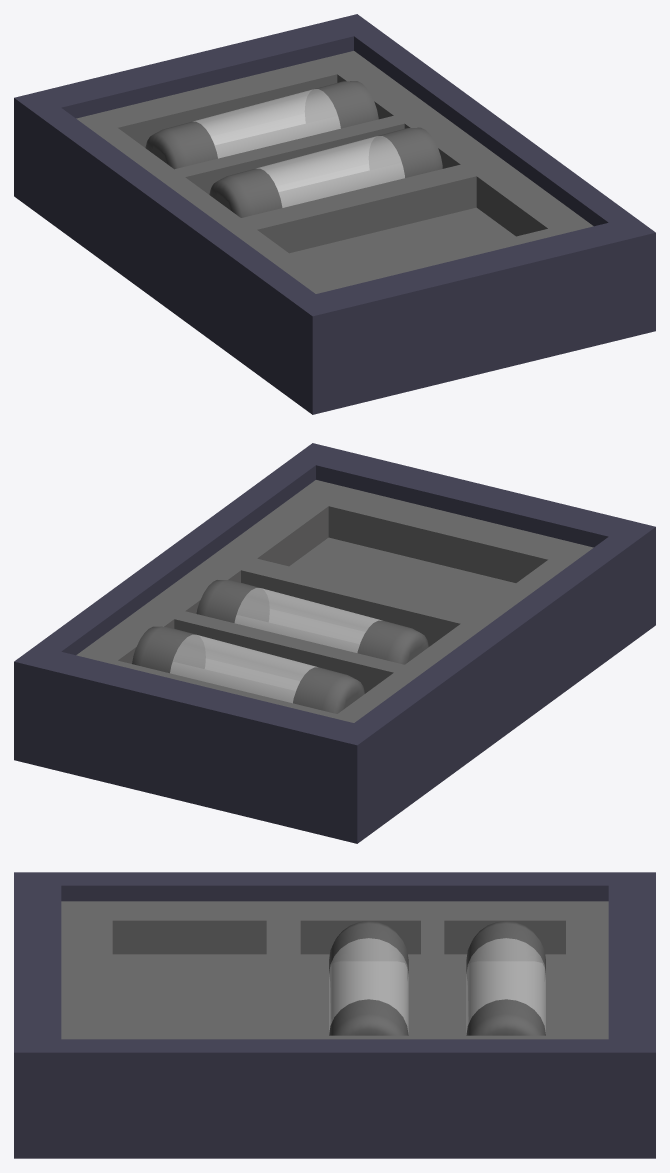
The model's file is BoîtierPourl'espaceClef.fbx.
3 renders of one model, top to bottom at view 1: azimuth 30°, elevation 25°; view 2: azimuth 150°, elevation 25°; view 3: azimuth 270°, elevation 25°, orthographic. The views are drawn at different scales.
Parts seen in each view (by area): view 1: pCube2; view 2: pCube2; view 3: pCube2.
Boxes of the visible parts, x1,y1,x2,y2 form: pCube2: (14,14,655,414); pCube2: (14,443,655,843); pCube2: (14,872,655,1158).
Bounding box in the file's own units: 7.76 × 2.13 × 11.68.
